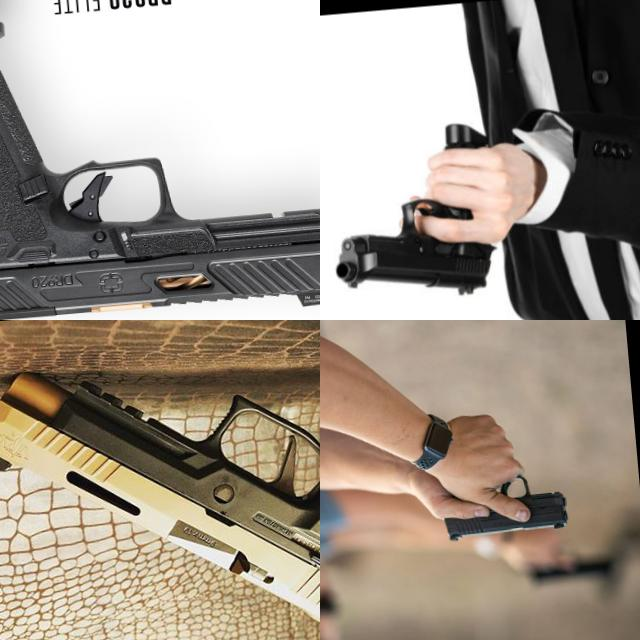handgun: (0, 0, 320, 320), (0, 326, 320, 640), (320, 117, 506, 308), (432, 453, 574, 545)
